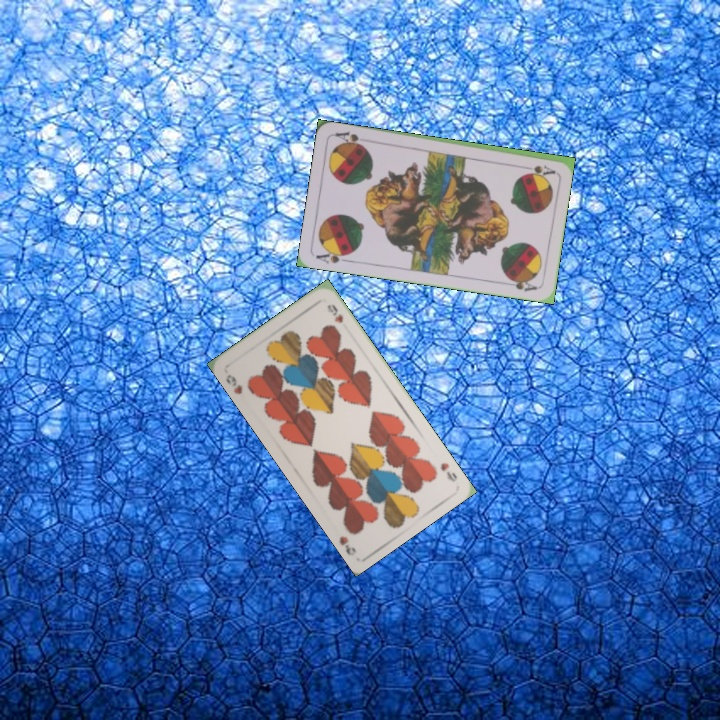H9: (222, 370, 246, 397), (436, 458, 460, 484)
SA: (312, 246, 354, 266), (516, 161, 557, 177)
